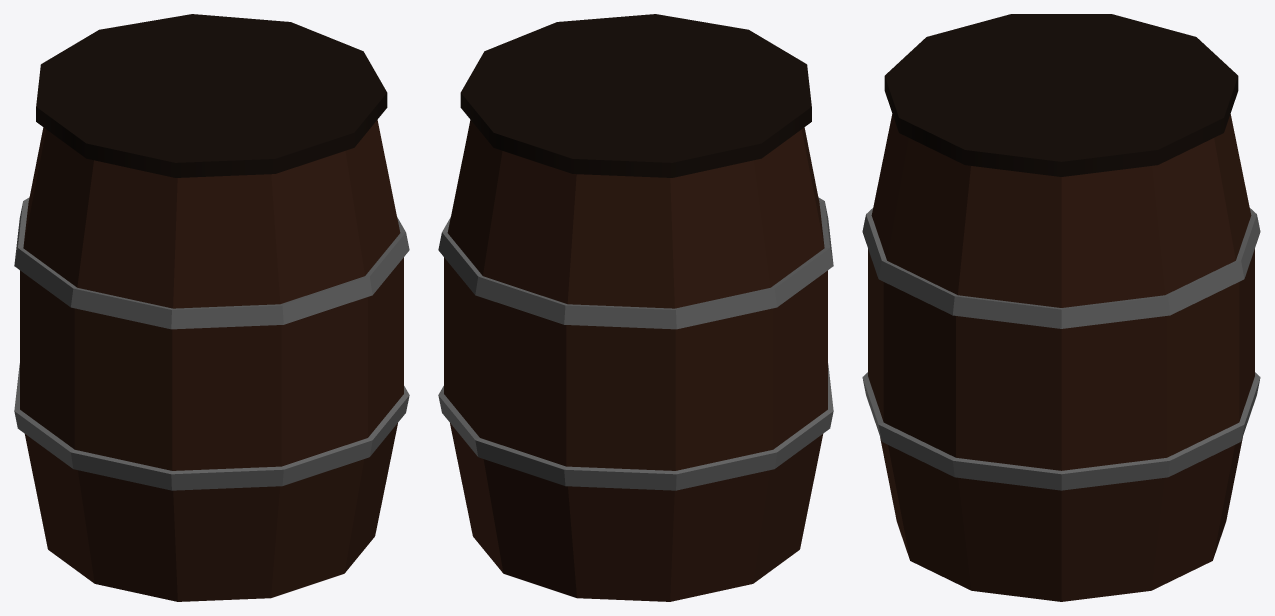
The model's file is Бочка.FBX.
3 renders of one model, left to right at view 1: azimuth 30°, elevation 25°; view 2: azimuth 150°, elevation 25°; view 3: azimuth 270°, elevation 25°, orthographic.
Visible parts, largest first — view 1: Cylinder001, Cylinder002; view 2: Cylinder001, Cylinder002; view 3: Cylinder001, Cylinder002.
Part boxes in pixels (left/top/right/bottom): Cylinder001: left=14, top=120, right=409, bottom=601; Cylinder002: left=36, top=14, right=387, bottom=177; Cylinder001: left=438, top=120, right=833, bottom=601; Cylinder002: left=460, top=14, right=811, bottom=177; Cylinder001: left=862, top=114, right=1260, bottom=601; Cylinder002: left=884, top=14, right=1238, bottom=176.
Bounding box in the file's own units: 70.59 × 88 × 71.31.
